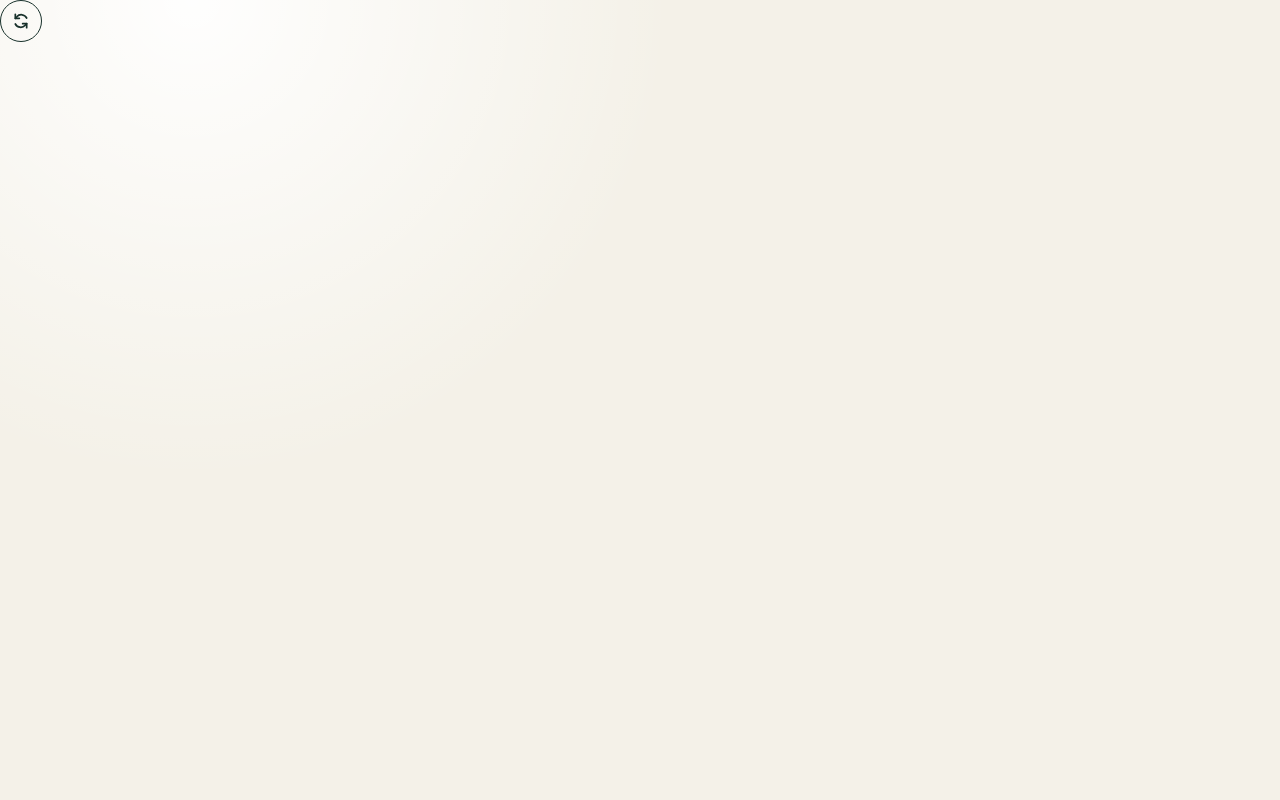
it: SyncPanel: entry and local validation › does not submit with empty password
Later steps or results of the test are not shown.
Click the button named "登录与数据同步".
click(21, 21)  # box [0,0,42,42]
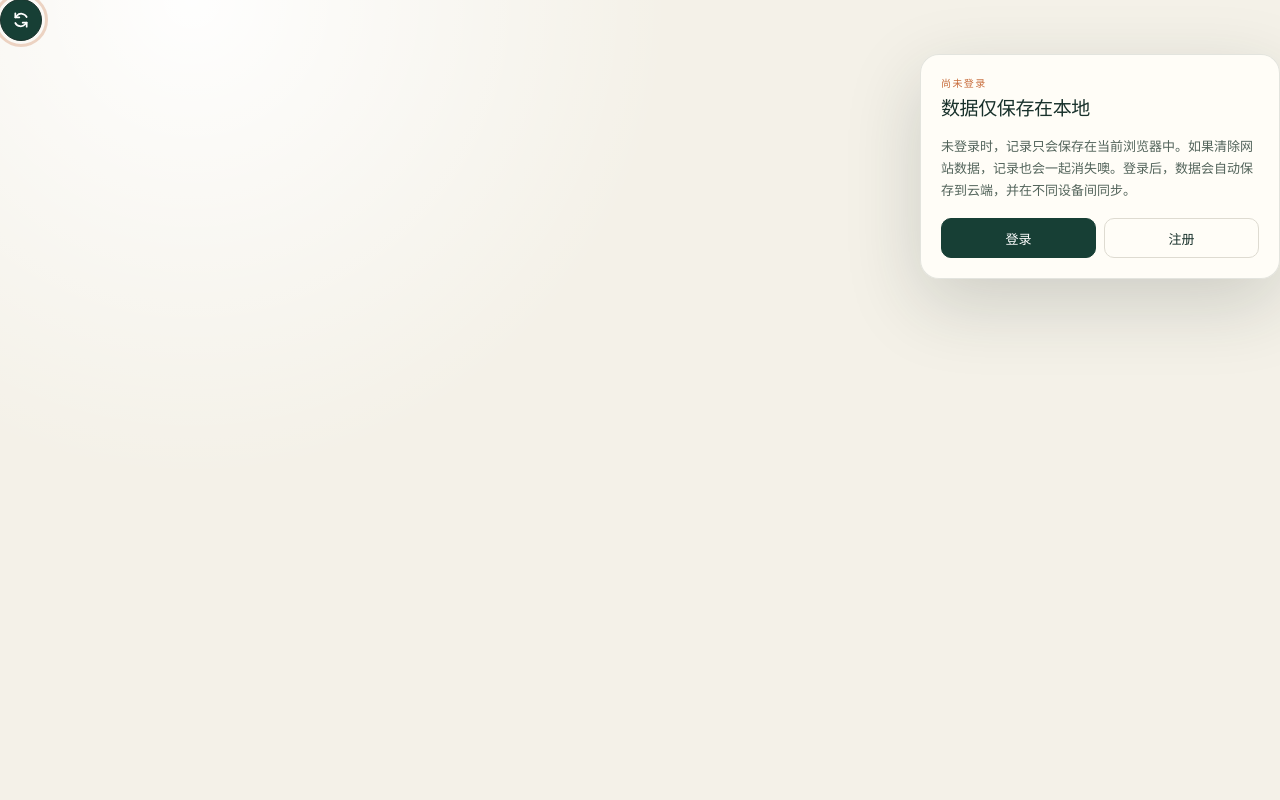
Now the button "注册" is shown
Click the button "注册".
click(1182, 238)  # box [1104,218,1259,258]
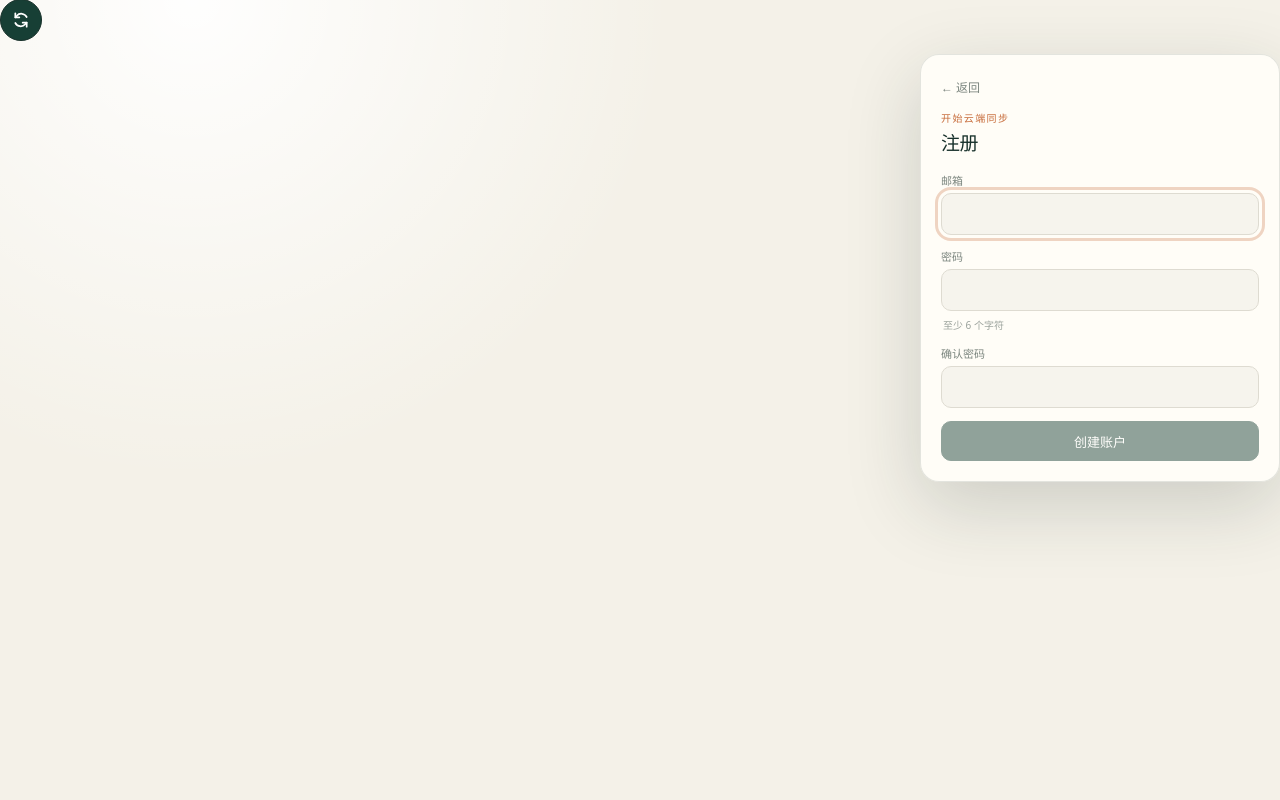
Type "preview+test1@example.com" into the field labelled "邮箱".
click(1100, 214); type("preview+test1@example.com")  # box [941,193,1259,235]
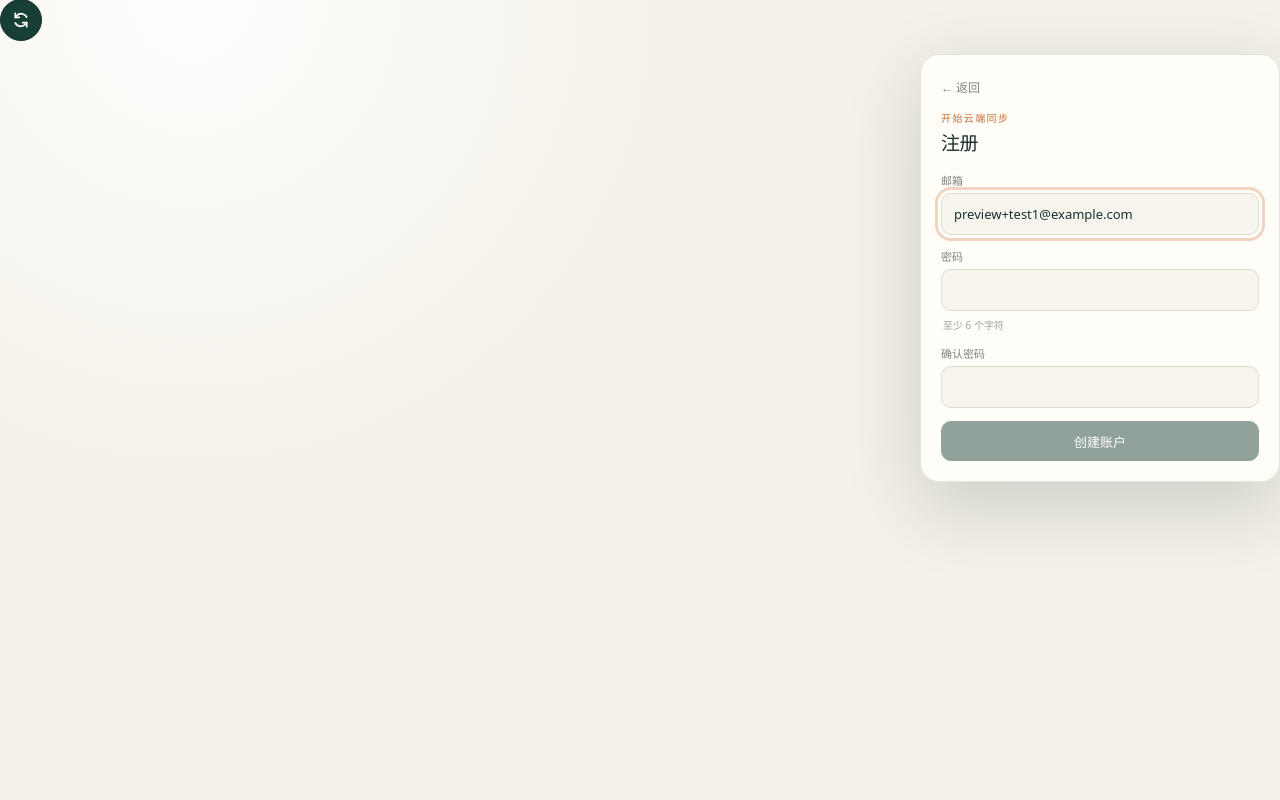
Now the button "创建账户" is disabled, box [941,421,1259,461]
